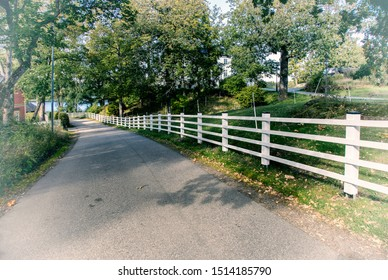Fence: (178, 112, 388, 198)
Tree: (139, 9, 220, 110)
